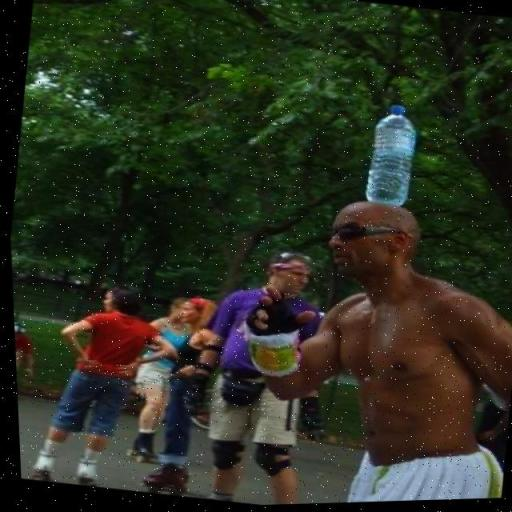plastic: (355, 102, 422, 210)
